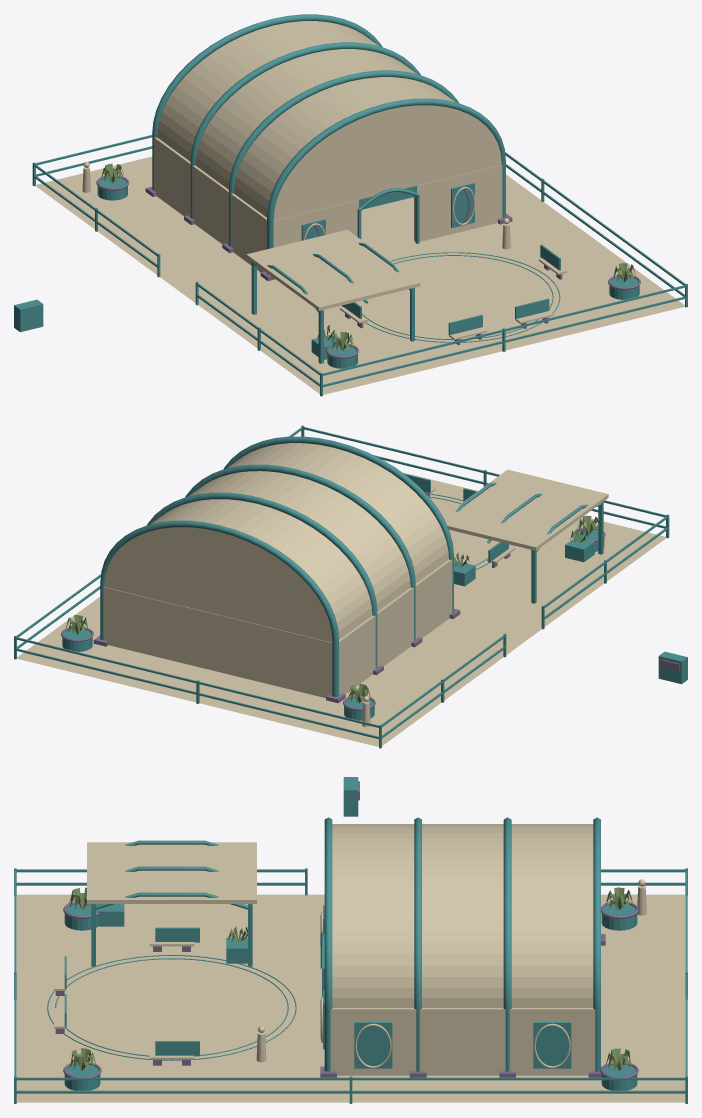
Rendered from commons_blockout.glb.
3 renders of one model, top to bottom at view 1: azimuth 30°, elevation 25°; view 2: azimuth 150°, elevation 25°; view 3: azimuth 270°, elevation 25°, orthographic. The views are drawn at different scales.
Visible parts, largest first — view 1: COMMONS_batch_Commons limestone, COMMONS_batch_Commons teal, COMMONS_batch_Commons violet, COMMONS_batch_Commons foliage; view 2: COMMONS_batch_Commons limestone, COMMONS_batch_Commons teal, COMMONS_batch_Commons foliage, COMMONS_batch_Commons violet; view 3: COMMONS_batch_Commons limestone, COMMONS_batch_Commons teal, COMMONS_batch_Commons violet, COMMONS_batch_Commons foliage.
Part boxes in pixels (x1,y1,x2,y2): COMMONS_batch_Commons limestone: (35, 21, 684, 394); COMMONS_batch_Commons teal: (14, 14, 687, 396); COMMONS_batch_Commons violet: (96, 175, 640, 358); COMMONS_batch_Commons foliage: (101, 163, 636, 351); COMMONS_batch_Commons limestone: (17, 443, 666, 746); COMMONS_batch_Commons teal: (14, 425, 687, 748); COMMONS_batch_Commons foliage: (66, 515, 598, 703); COMMONS_batch_Commons violet: (61, 492, 679, 710); COMMONS_batch_Commons limestone: (16, 824, 685, 1102); COMMONS_batch_Commons teal: (14, 777, 687, 1103); COMMONS_batch_Commons violet: (55, 781, 638, 1077); COMMONS_batch_Commons foliage: (68, 887, 633, 1070).
Size of the model in its own units: 31.76 by 8.42 by 30.12.
